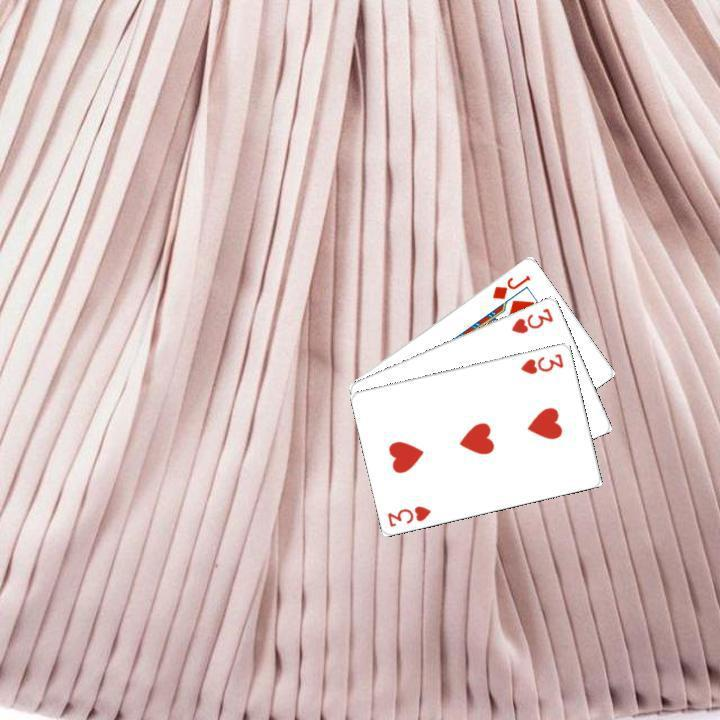3: (507, 303, 556, 335), (383, 501, 433, 529), (516, 349, 566, 376)
J: (488, 270, 533, 301)
